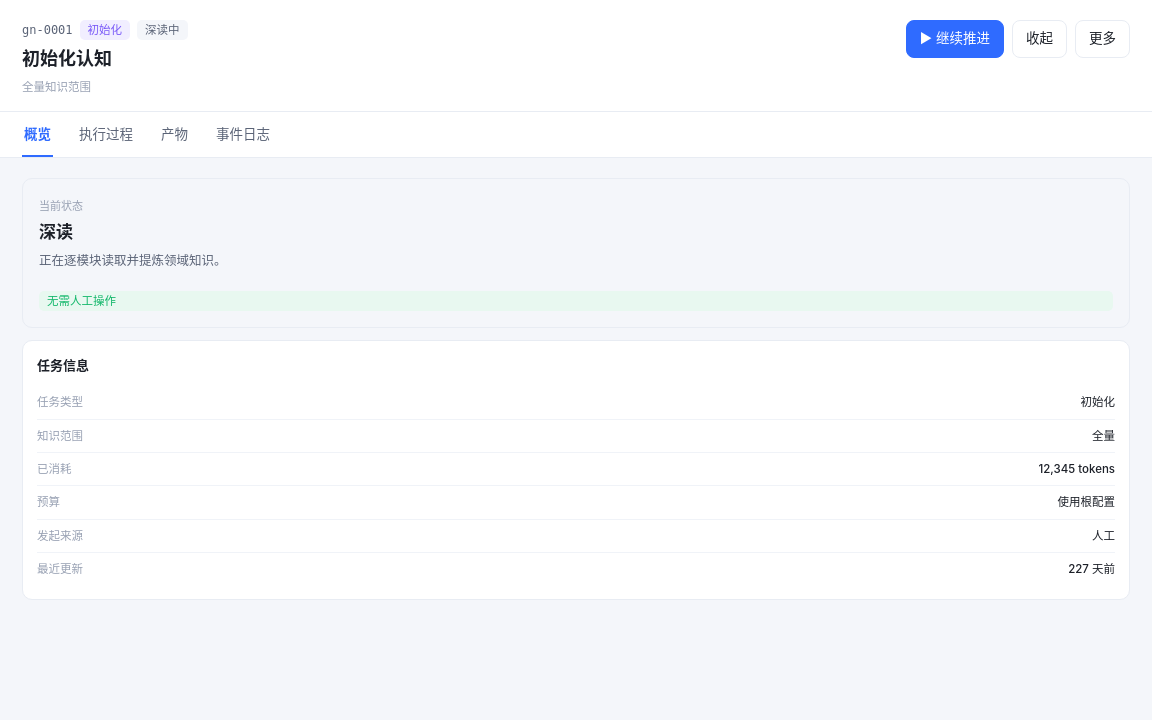
GenomeTaskDetail › says the deep read has not started rather than showing an empty list
Click the tab "执行过程": (106, 134) x1=77 y1=112 x2=135 y2=157
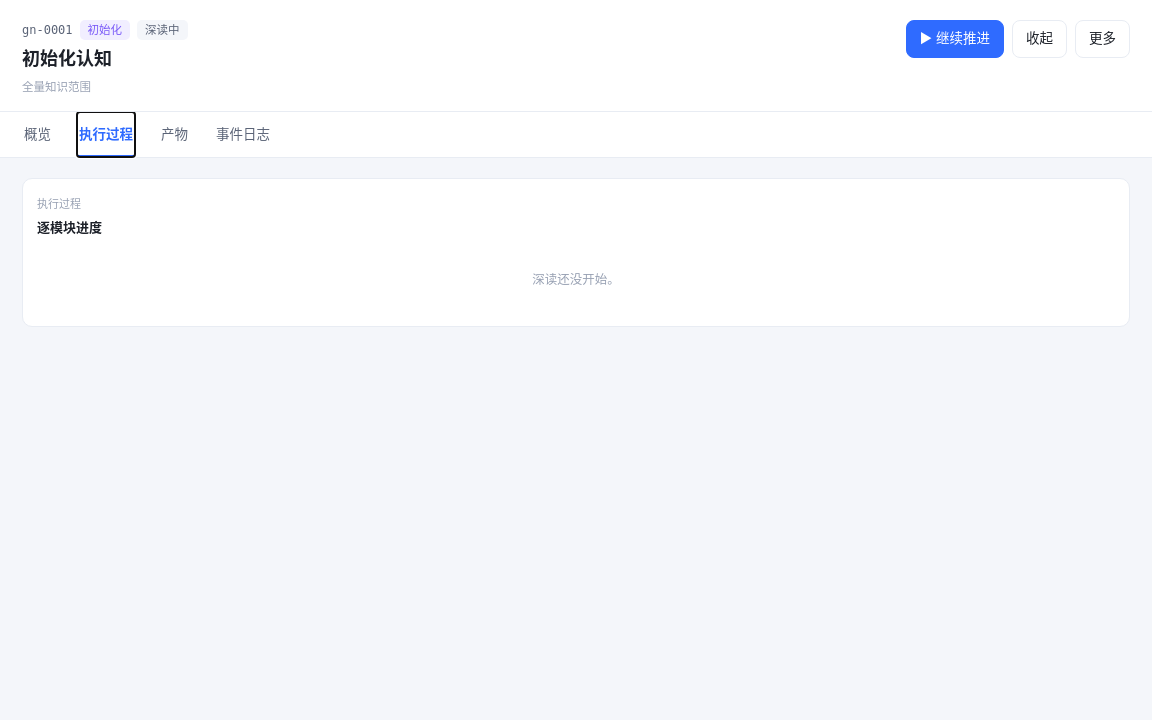
Expected: the text "深读还没开始。" is shown, x1=532 y1=272 x2=620 y2=287
